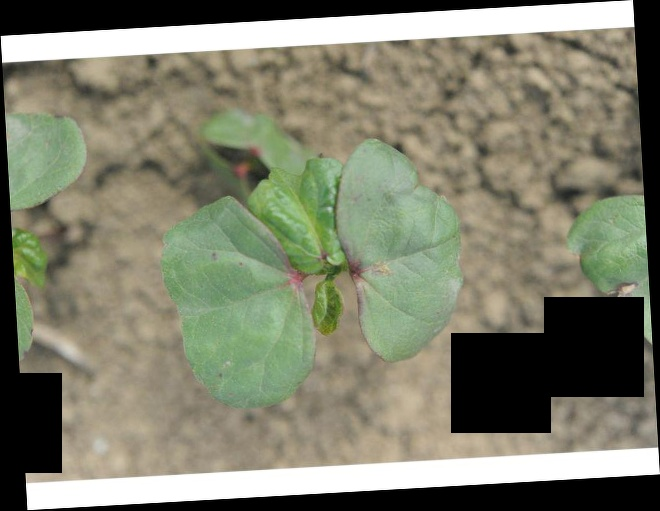cotton: (160, 136, 468, 410)
